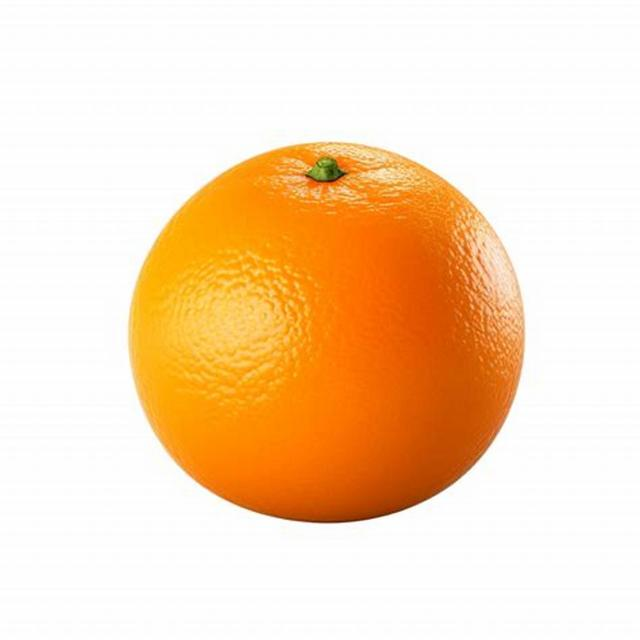Orange: (122, 142, 528, 524)
